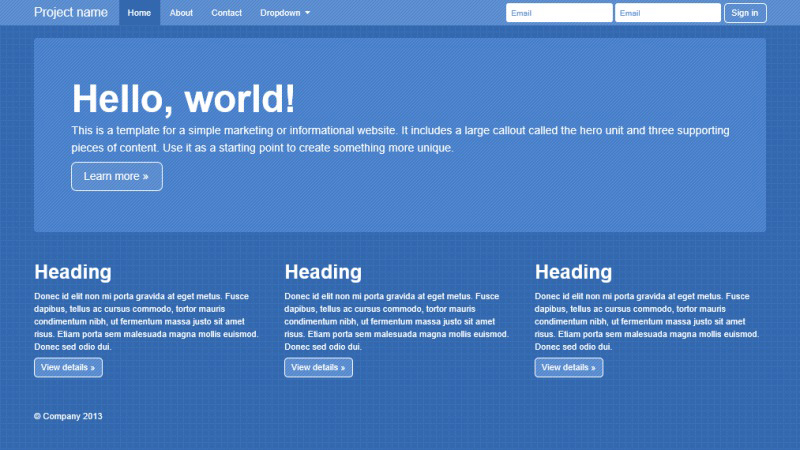button: (71, 158, 169, 194), (530, 353, 619, 386), (283, 356, 359, 382), (30, 358, 111, 379), (723, 1, 773, 24)
textbox: (615, 1, 722, 24), (504, 1, 615, 22)
